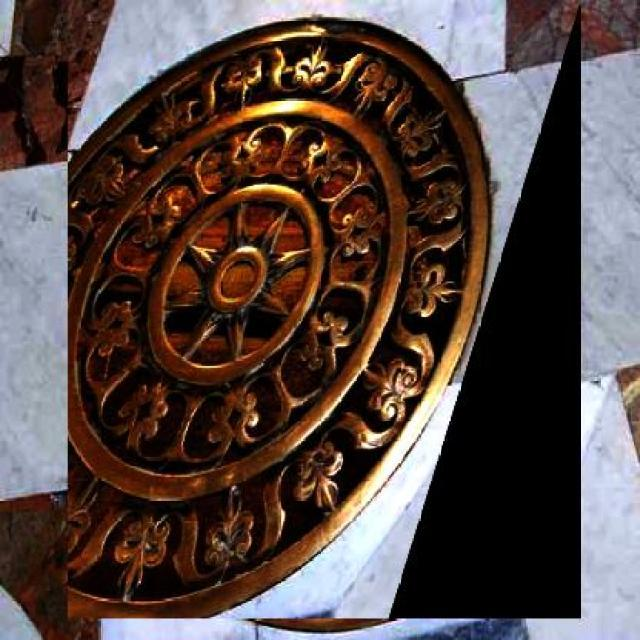Manhole: (68, 3, 580, 619)
